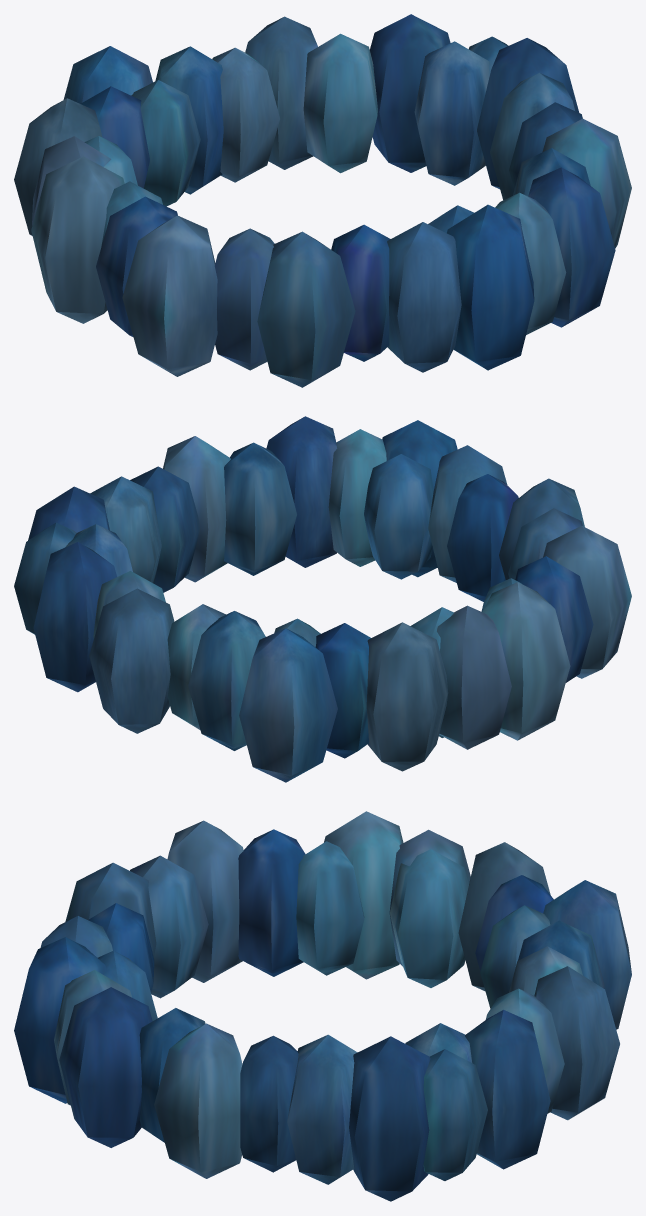
The model's file is whole.fbx.
3 renders of one model, top to bottom at view 1: azimuth 30°, elevation 25°; view 2: azimuth 150°, elevation 25°; view 3: azimuth 270°, elevation 25°, orthographic. The views are drawn at different scales.
Parts seen in each view (by area): view 1: whole; view 2: whole; view 3: whole.
Part boxes in pixels (x1=…): whole: x1=14, y1=14, x2=631, y2=387; whole: x1=14, y1=416, x2=631, y2=782; whole: x1=14, y1=811, x2=631, y2=1201.
Bounding box in the file's own units: 147 × 43.13 × 143.
Materials: 1 (1 with a texture image).
